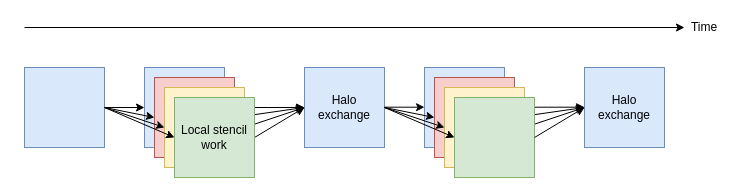
Image size: 742x195. Some labels were removed from this diagram. Here are the shapes that lost their labels. From the top down, the centre of each, then its label:
(x=64, y=107): Prepare work
(x=494, y=137): Non-local stencil work
